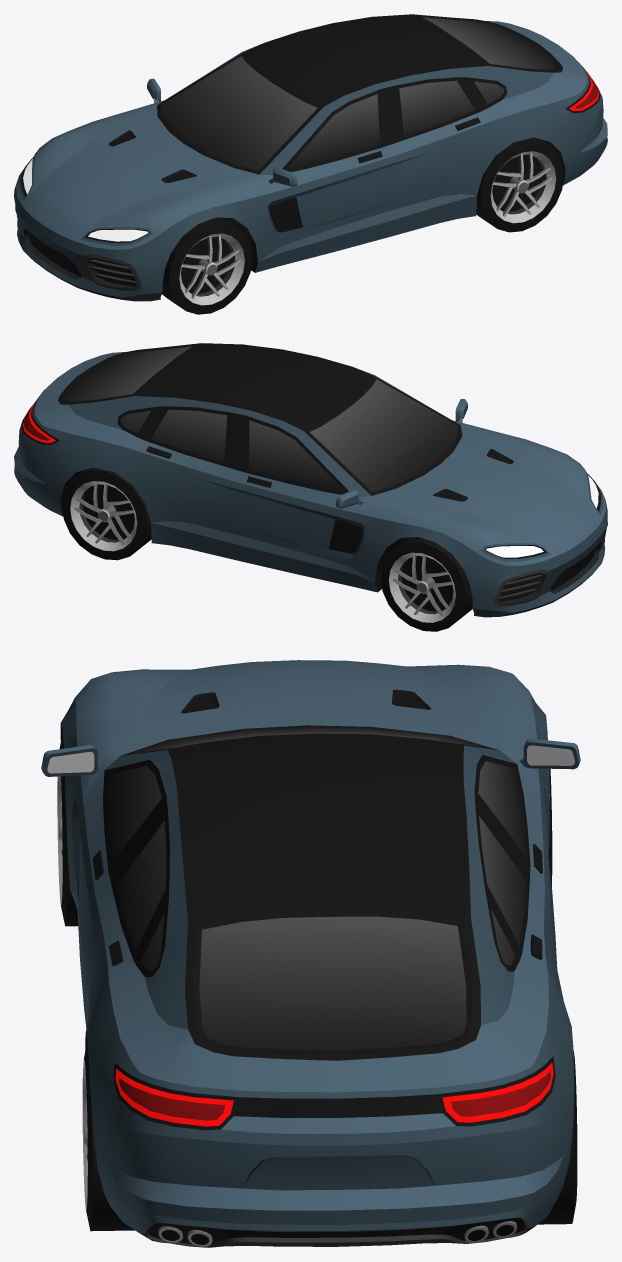
Rendered from Car_085.glb.
3 renders of one model, top to bottom at view 1: azimuth 30°, elevation 25°; view 2: azimuth 150°, elevation 25°; view 3: azimuth 270°, elevation 25°, orthographic. The views are drawn at different scales.
Visible parts, largest first — view 1: Car_085, wheel_2_Car_085_Wheel_2R, wheel_1_Car_085_Wheel_1R; view 2: Car_085, wheel_3_Car_085_Wheel_3L, wheel_0_Car_085_Wheel_1L; view 3: Car_085, wheel_1_Car_085_Wheel_1R, wheel_2_Car_085_Wheel_2R, wheel_0_Car_085_Wheel_1L.
Boxes of the visible parts, x1=… form: Car_085: x1=14, y1=14, x2=607, y2=301; wheel_2_Car_085_Wheel_2R: x1=162, y1=217, x2=252, y2=314; wheel_1_Car_085_Wheel_1R: x1=476, y1=137, x2=563, y2=232; Car_085: x1=14, y1=343, x2=607, y2=617; wheel_3_Car_085_Wheel_3L: x1=380, y1=537, x2=472, y2=631; wheel_0_Car_085_Wheel_1L: x1=62, y1=467, x2=151, y2=560; Car_085: x1=41, y1=660, x2=580, y2=1247; wheel_1_Car_085_Wheel_1R: x1=82, y1=1041, x2=134, y2=1231; wheel_2_Car_085_Wheel_2R: x1=57, y1=734, x2=78, y2=926; wheel_0_Car_085_Wheel_1L: x1=538, y1=1050, x2=577, y2=1224.
Bounding box in the file's own units: 5.11 × 1.47 × 2.23.
3 materials, 3 textured.
